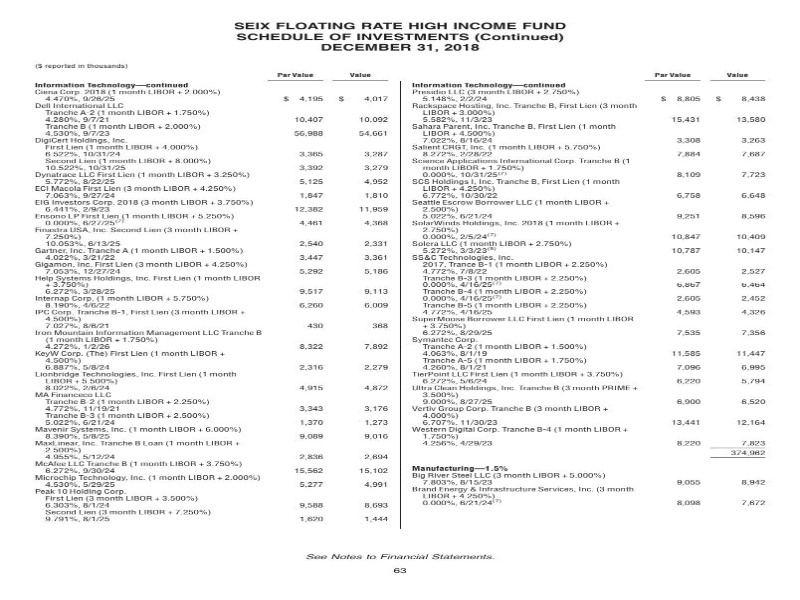table: (393, 63, 788, 532), (23, 58, 407, 534)
